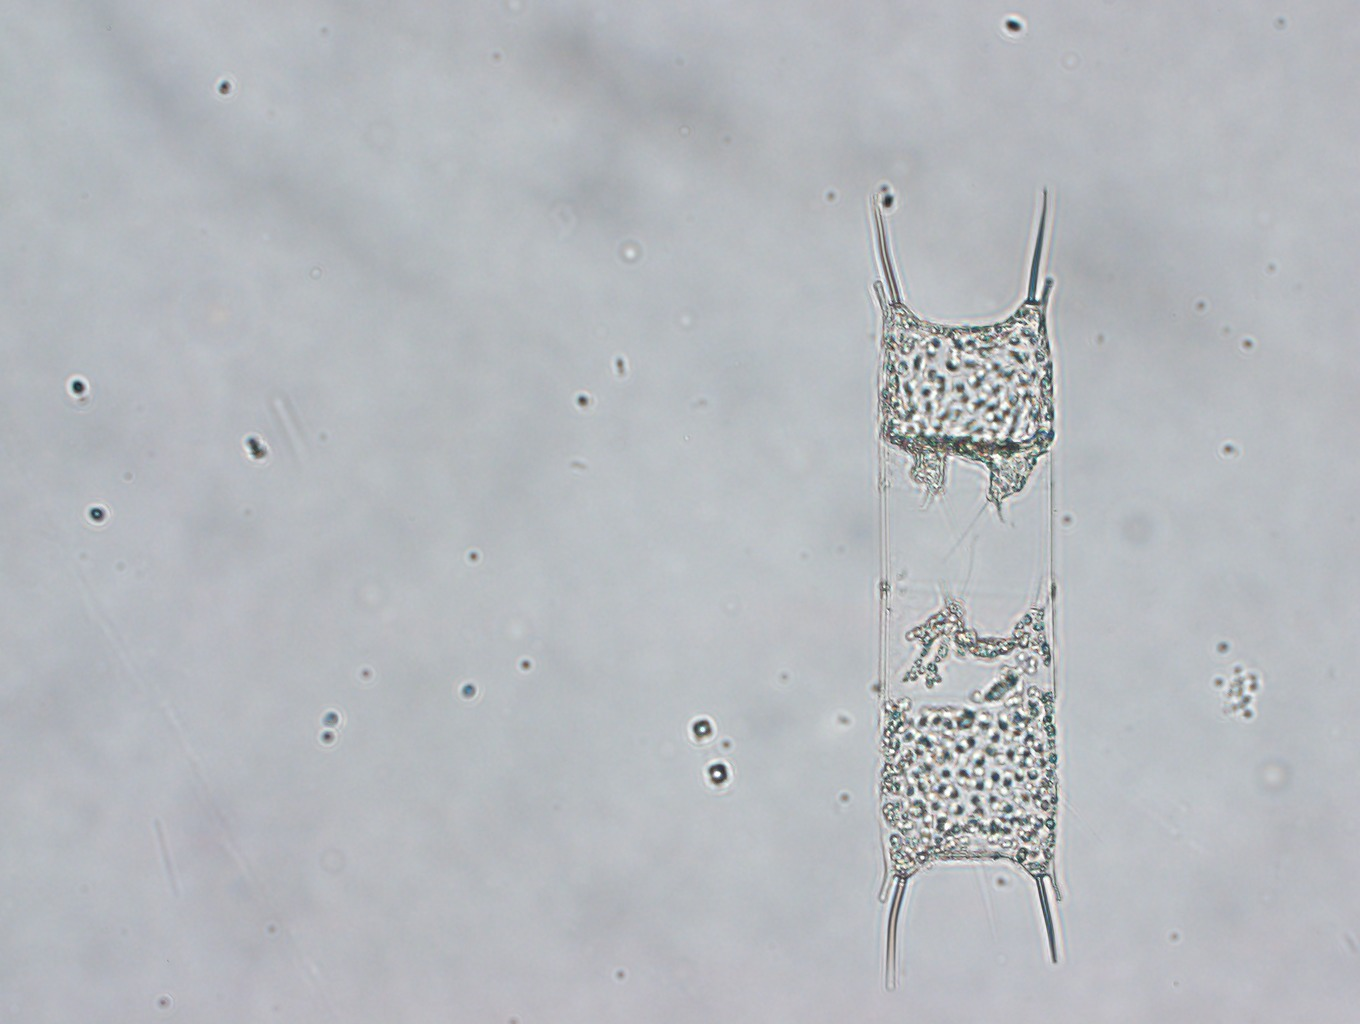biddulphia: (846, 169, 1089, 995)
skeletonema: (674, 703, 734, 797)
